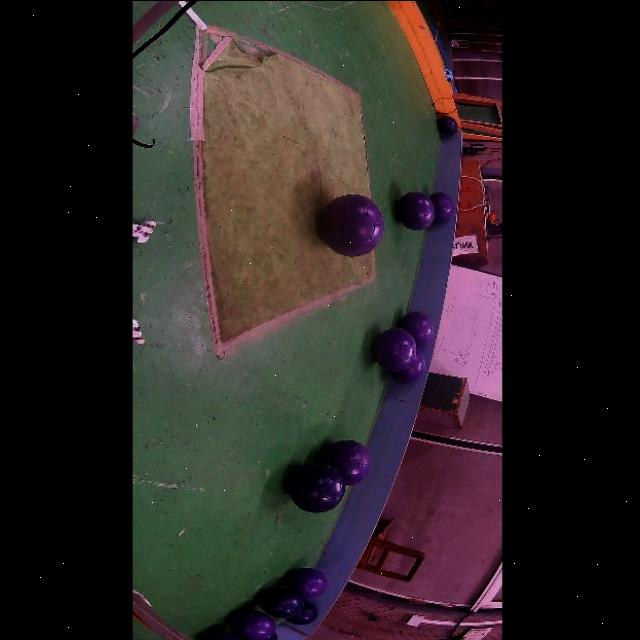B: (290, 462, 346, 512), (260, 586, 304, 617), (287, 600, 318, 624), (438, 115, 458, 134), (241, 632, 278, 640)
P: (321, 193, 385, 256), (322, 439, 372, 484), (374, 327, 417, 371), (398, 191, 437, 229), (232, 609, 277, 638), (287, 566, 328, 597), (399, 310, 434, 346), (390, 349, 426, 383), (430, 191, 455, 220), (203, 631, 243, 640)
